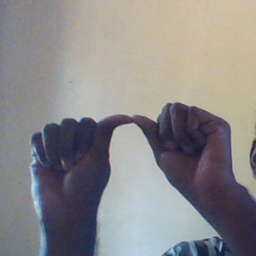A: (28, 101, 234, 219)
